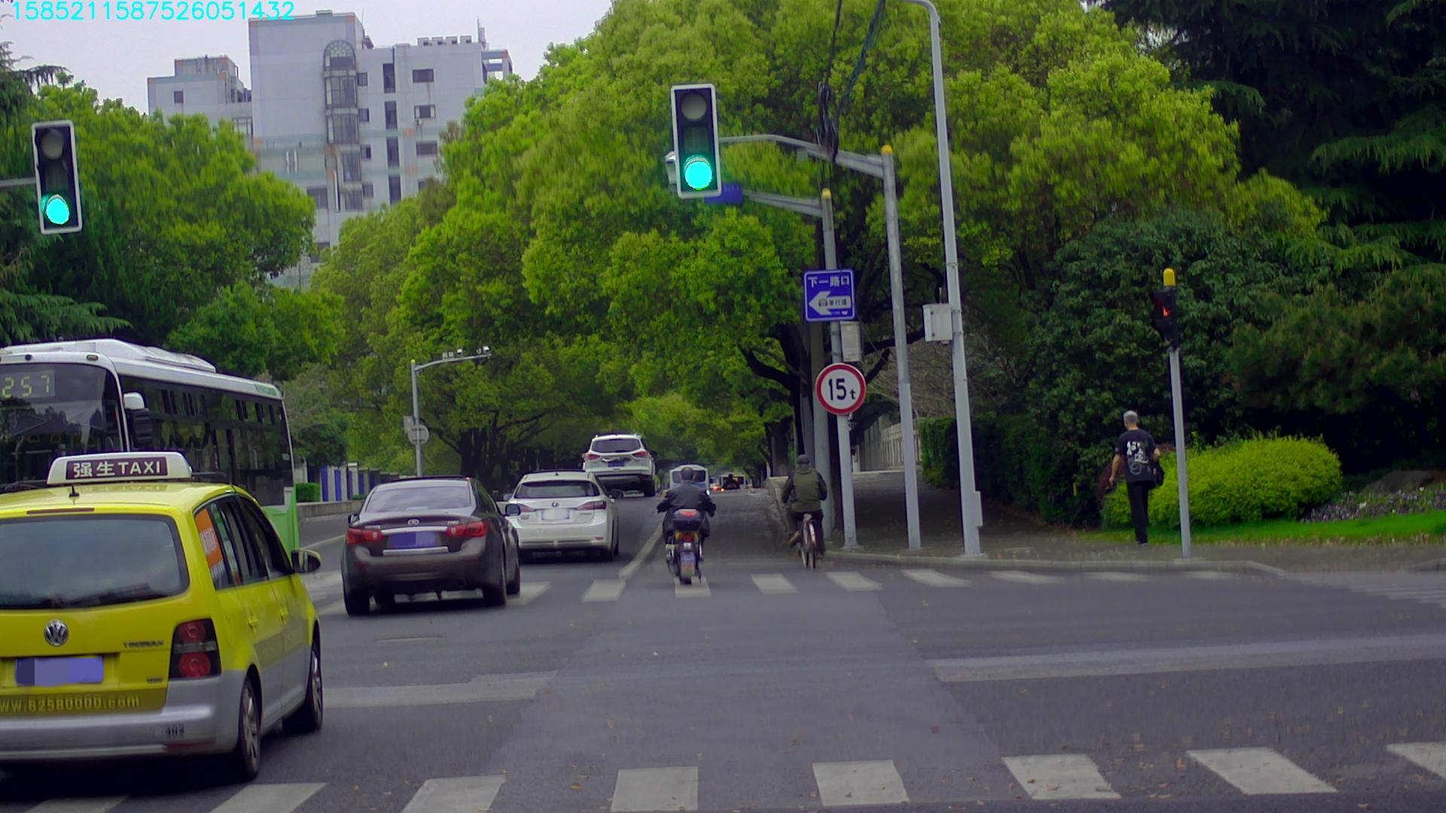green: (32, 120, 79, 230), (673, 87, 718, 194)
